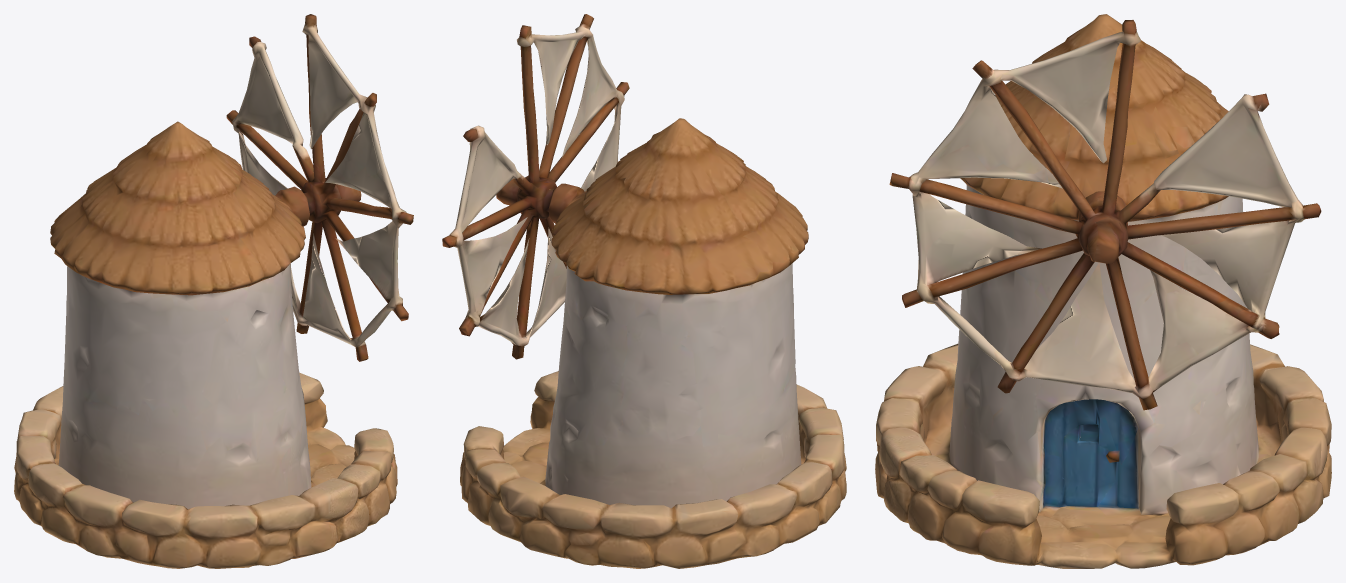
The model's file is windmill.glb.
3 views of the same model, side by side, from view 1: azimuth 30°, elevation 25°; view 2: azimuth 150°, elevation 25°; view 3: azimuth 270°, elevation 25° (orthographic). The views are drawn at different scales.
Visible parts, largest first — view 1: tripo_node_a7ba78ae-c607-4409-872c-1742d7d3f173; view 2: tripo_node_a7ba78ae-c607-4409-872c-1742d7d3f173; view 3: tripo_node_a7ba78ae-c607-4409-872c-1742d7d3f173.
Part boxes in pixels (box(x1,y1,x2,y2)): tripo_node_a7ba78ae-c607-4409-872c-1742d7d3f173: box(14, 14, 413, 568); tripo_node_a7ba78ae-c607-4409-872c-1742d7d3f173: box(442, 14, 846, 568); tripo_node_a7ba78ae-c607-4409-872c-1742d7d3f173: box(875, 14, 1331, 568).
Bounding box in the file's own units: 0.7679 × 1 × 0.784.
1 material, 1 textured.
